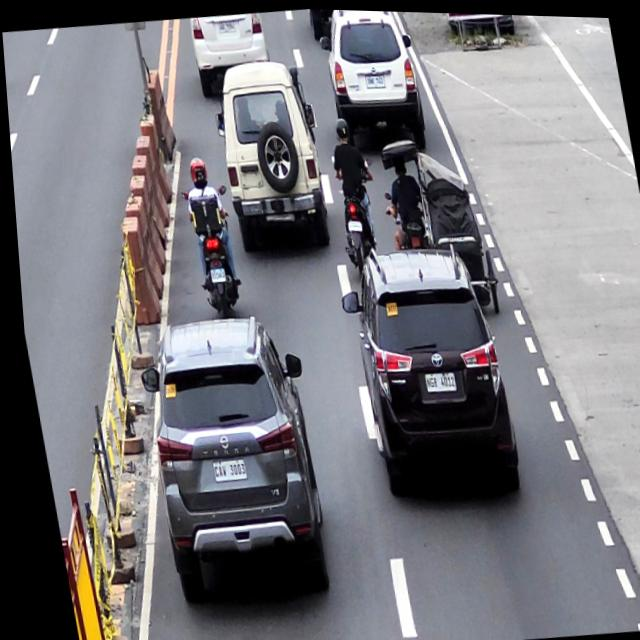Car: (124, 314, 319, 597), (337, 240, 506, 484), (208, 64, 321, 249), (315, 7, 419, 115), (187, 9, 270, 88)
License-Plate: (203, 456, 240, 482), (416, 367, 451, 392), (362, 69, 385, 90), (203, 265, 224, 283)
Motorcycle: (179, 152, 238, 308), (321, 115, 376, 249)
Tricycle: (374, 132, 498, 307)
